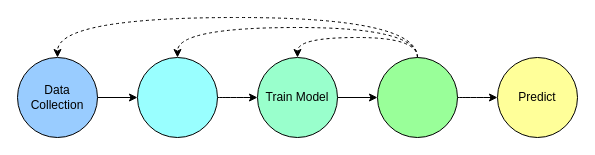
Some shapes in this 595 by 155 pixel diagram are drawn without their labels. The shapes that lost their labels are listed below. From the top down, each one's centre as x and y in pixels, then its label:
At [177,97]: "Clean, Prepare Data".
At [417,97]: "Evaluate Model".
